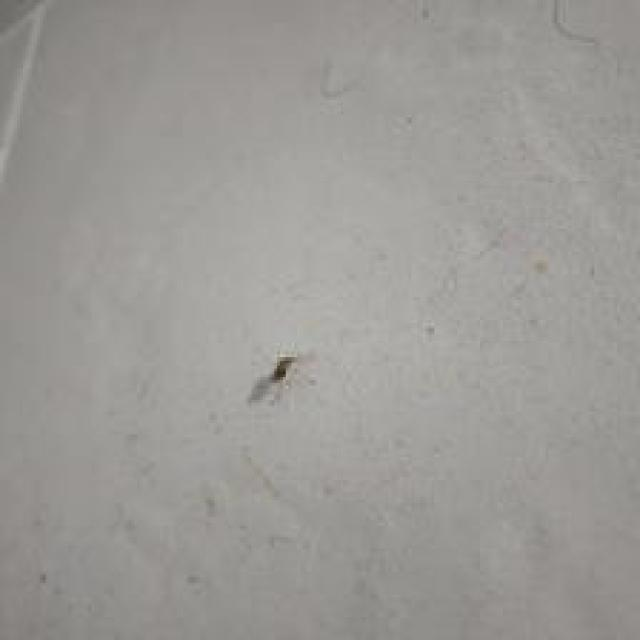Culex: (246, 354, 297, 406)
